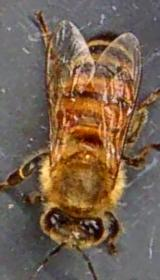varroa_mite: (47, 99, 84, 133)
